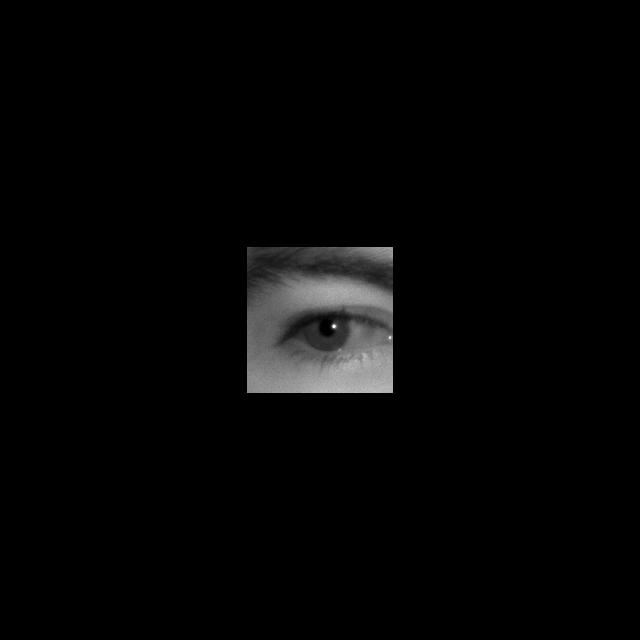eye: (293, 313, 387, 351)
iris: (303, 315, 349, 349)
